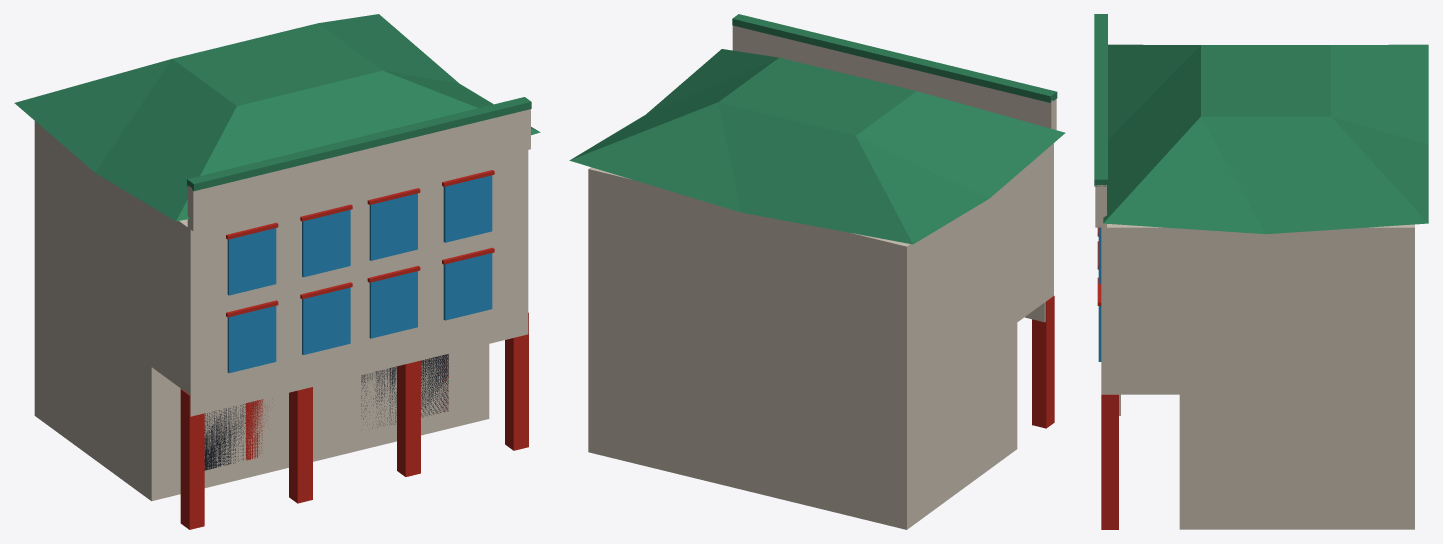
Rendered from building_eastyork_s3_qilou_terrace.glb.
3 views of the same model, side by side, from view 1: azimuth 30°, elevation 25°; view 2: azimuth 150°, elevation 25°; view 3: azimuth 270°, elevation 25° (orthographic). The views are drawn at different scales.
Visible parts, largest first — view 1: building_eastyork_s3_qilou_terrace; view 2: building_eastyork_s3_qilou_terrace; view 3: building_eastyork_s3_qilou_terrace.
Part boxes in pixels (bbox=[...]): building_eastyork_s3_qilou_terrace: bbox=[14, 14, 540, 529]; building_eastyork_s3_qilou_terrace: bbox=[569, 14, 1065, 529]; building_eastyork_s3_qilou_terrace: bbox=[1094, 14, 1428, 529].
Bounding box in the file's own units: 10.8 × 10.3 × 8.52.
Materials: 1 (1 with a texture image).
